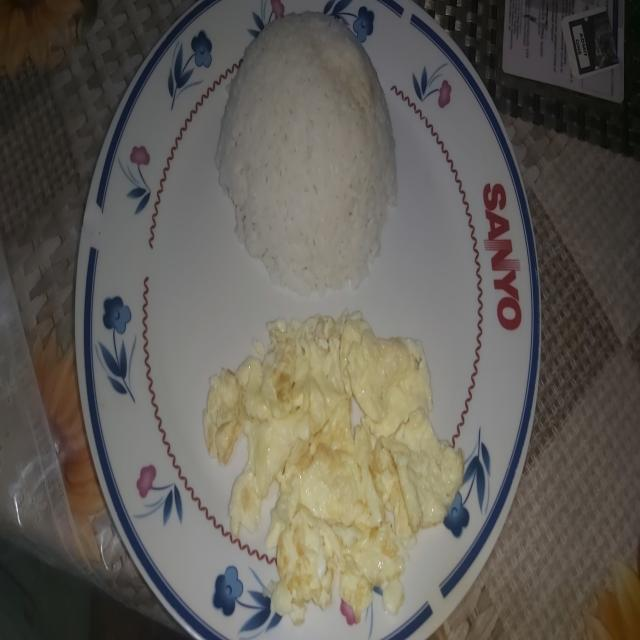Chicken -Chicken Inasal-: (214, 8, 398, 290)
